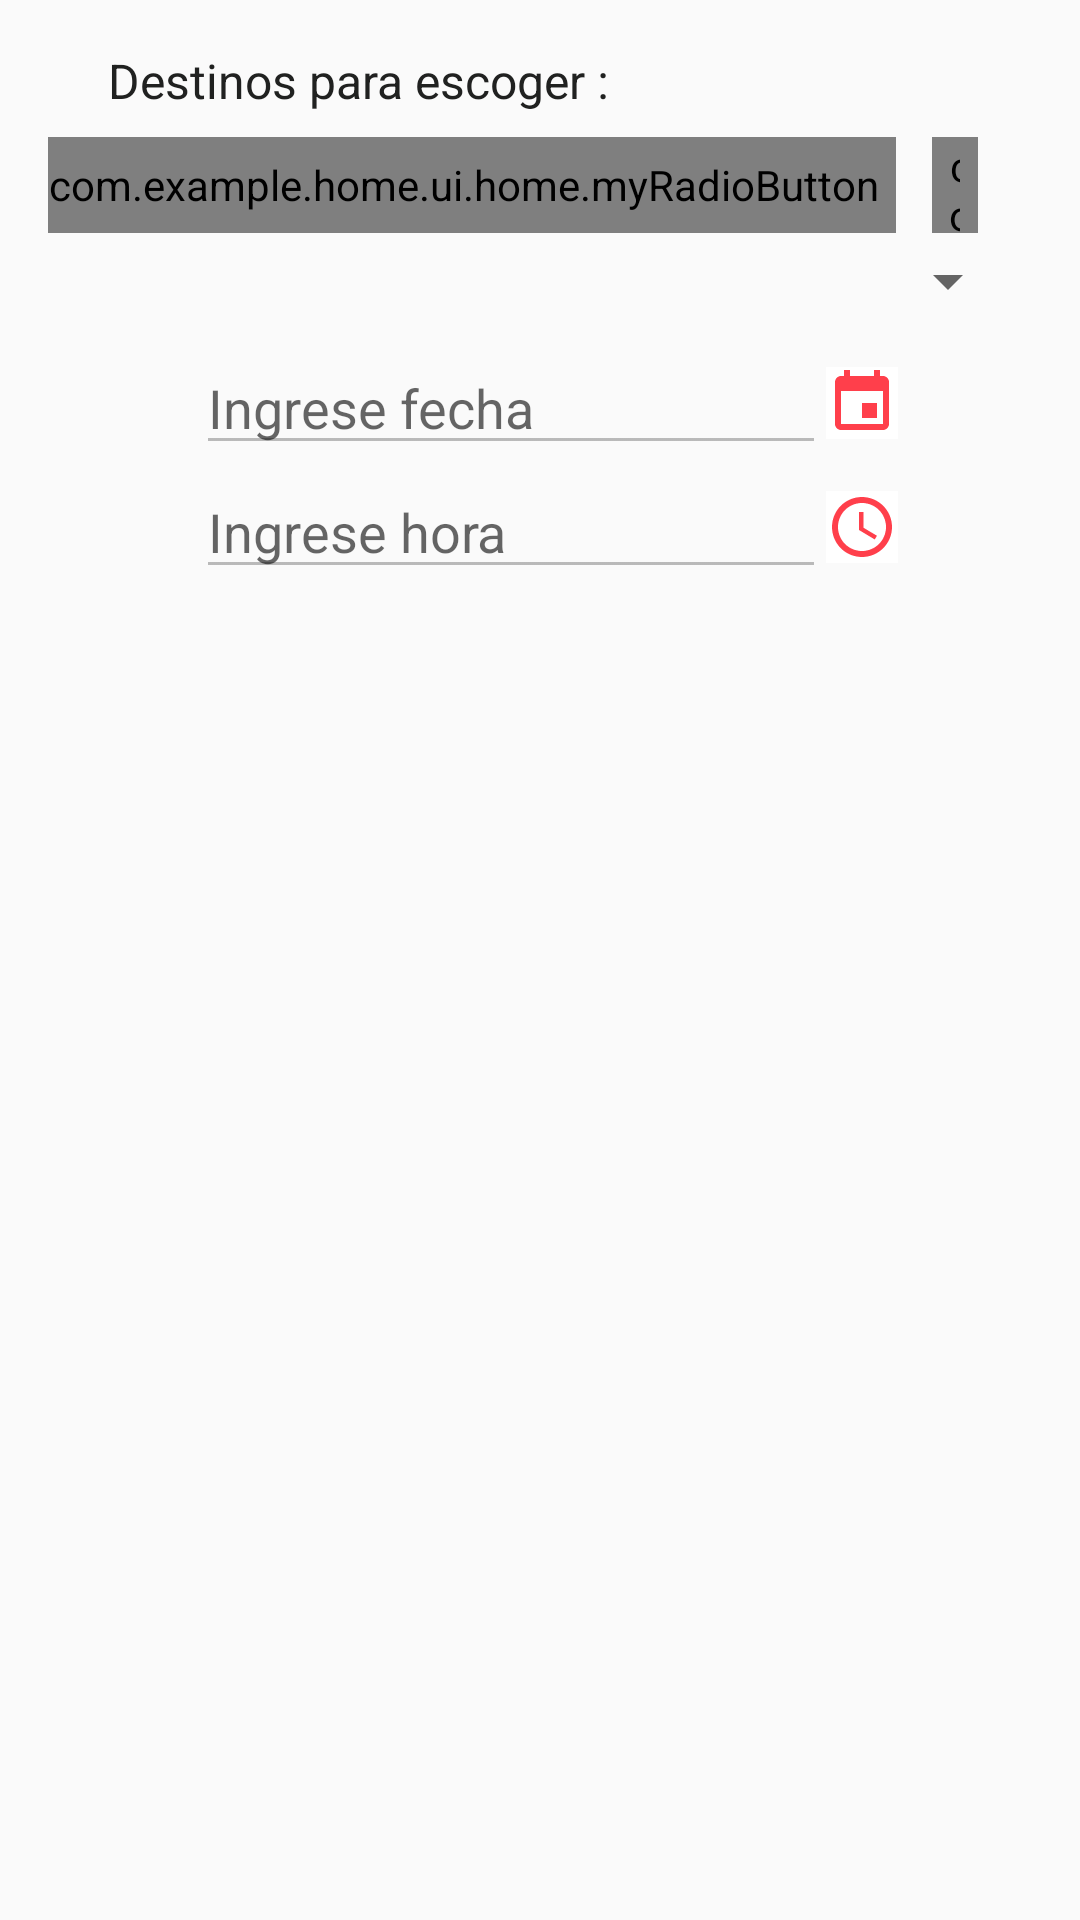

Icon bounding boxes for this 1080 x 1920 phone screenshot, format (x1, y1, x2, y2):
access time: (832, 497, 892, 557)
event: (835, 370, 889, 430)
